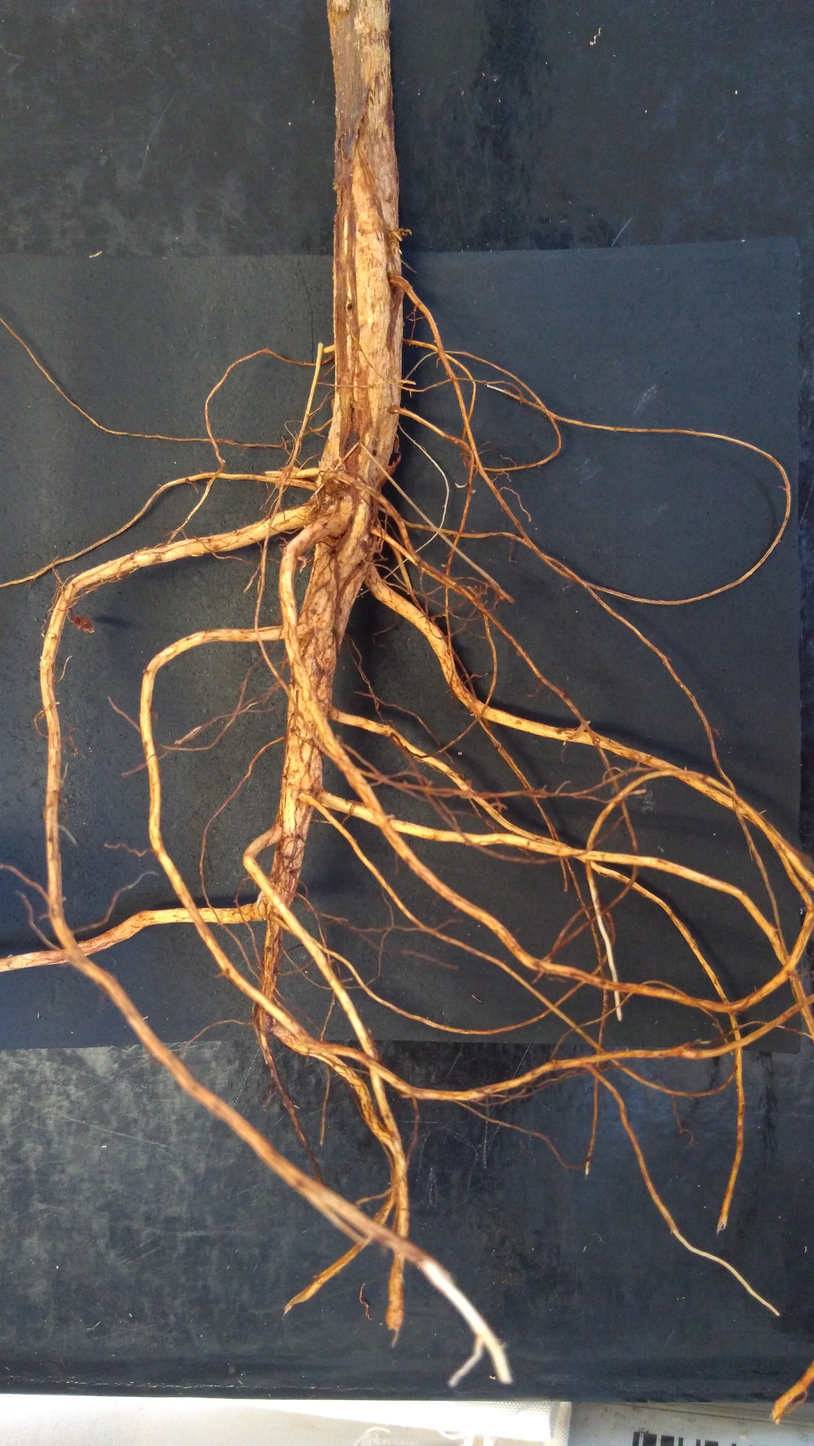nodule: (324, 511, 351, 539), (320, 473, 346, 494), (73, 614, 96, 635), (387, 229, 403, 241), (400, 227, 410, 236)
